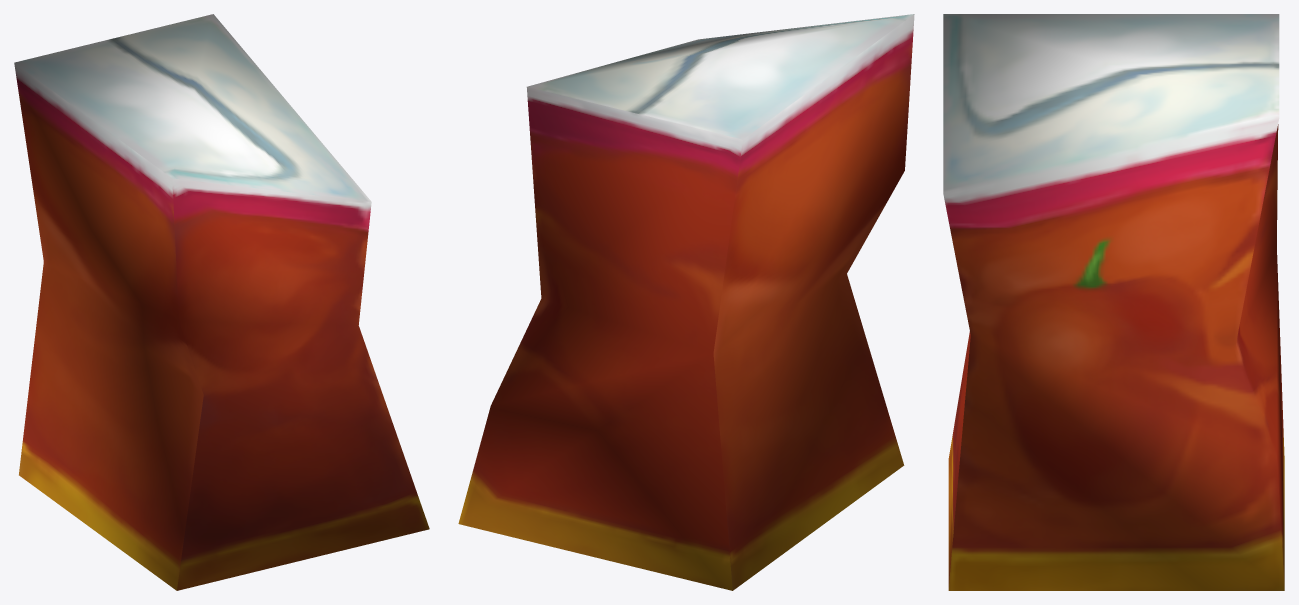
The model's file is 3D_recycle_trash_paper01.FBX.
3 views of the same model, side by side, from view 1: azimuth 30°, elevation 25°; view 2: azimuth 150°, elevation 25°; view 3: azimuth 270°, elevation 25° (orthographic). The views are drawn at different scales.
Parts seen in each view (by area): view 1: 3D_recycle_trash_paper01; view 2: 3D_recycle_trash_paper01; view 3: 3D_recycle_trash_paper01.
Part boxes in pixels (bbox=[...]): 3D_recycle_trash_paper01: bbox=[14, 14, 429, 590]; 3D_recycle_trash_paper01: bbox=[458, 14, 914, 590]; 3D_recycle_trash_paper01: bbox=[943, 14, 1284, 590].
Size of the model in its own units: 0.2079 by 0.318 by 0.2224.
